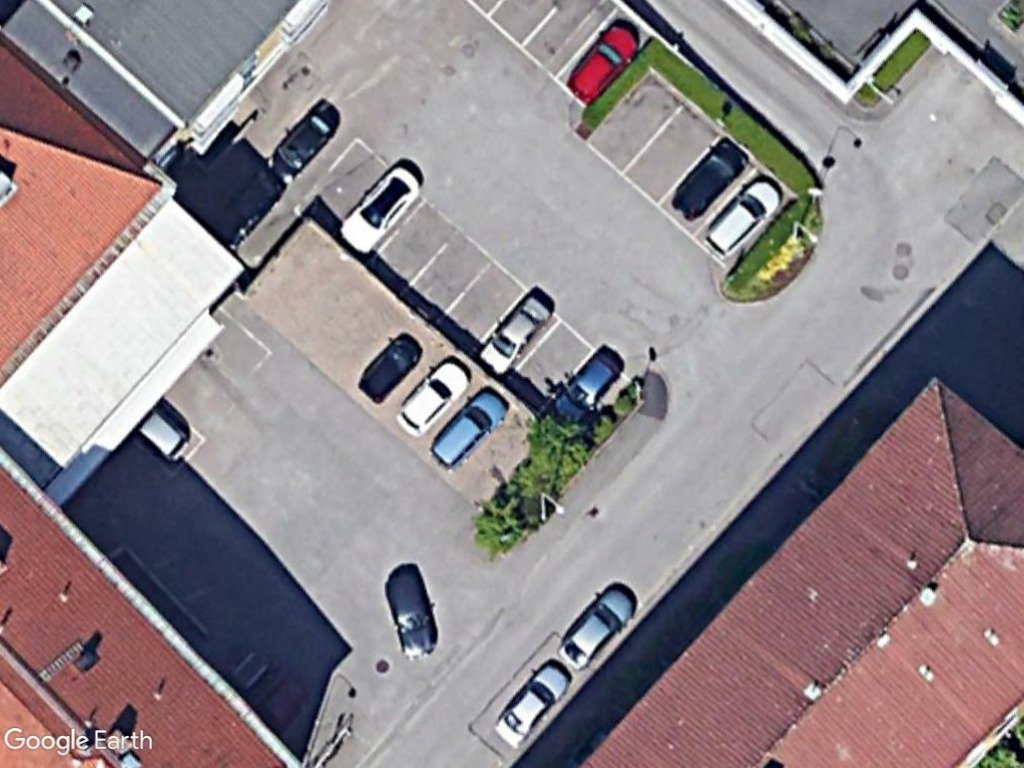car: (334, 159, 424, 257), (701, 171, 790, 263), (555, 583, 642, 674), (489, 657, 575, 749), (560, 21, 648, 110), (428, 384, 517, 471), (669, 134, 754, 224), (390, 351, 477, 437), (266, 93, 345, 186), (476, 289, 555, 382), (384, 568, 447, 666), (550, 348, 628, 426), (351, 330, 425, 408)
